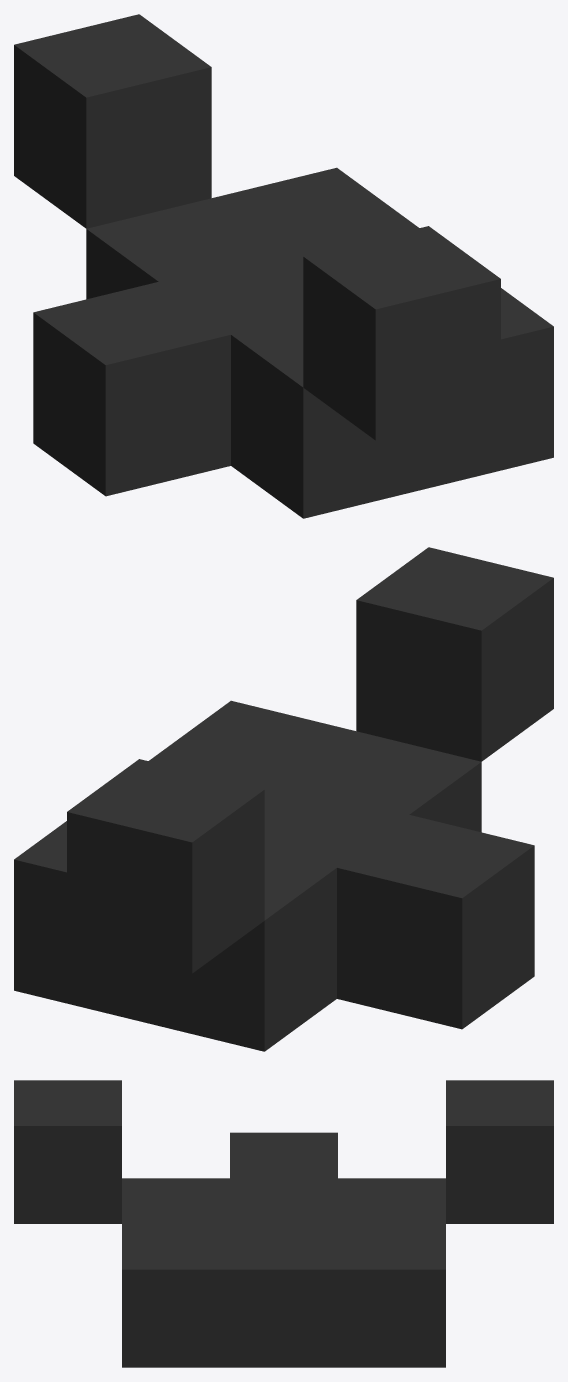
Rendered from bat-2-walk.obj.
3 views of the same model, one above another, from view 1: azimuth 30°, elevation 25°; view 2: azimuth 150°, elevation 25°; view 3: azimuth 270°, elevation 25° (orthographic). The views are drawn at different scales.
Parts seen in each view (by area): view 1: walk; view 2: walk; view 3: walk.
Boxes of the visible parts, bbox=[...] form: walk: bbox=[14, 14, 553, 518]; walk: bbox=[14, 547, 553, 1051]; walk: bbox=[14, 1080, 553, 1367].
Bounding box in the file's own units: 0.3 × 0.2 × 0.5.
1 material, 1 textured.
